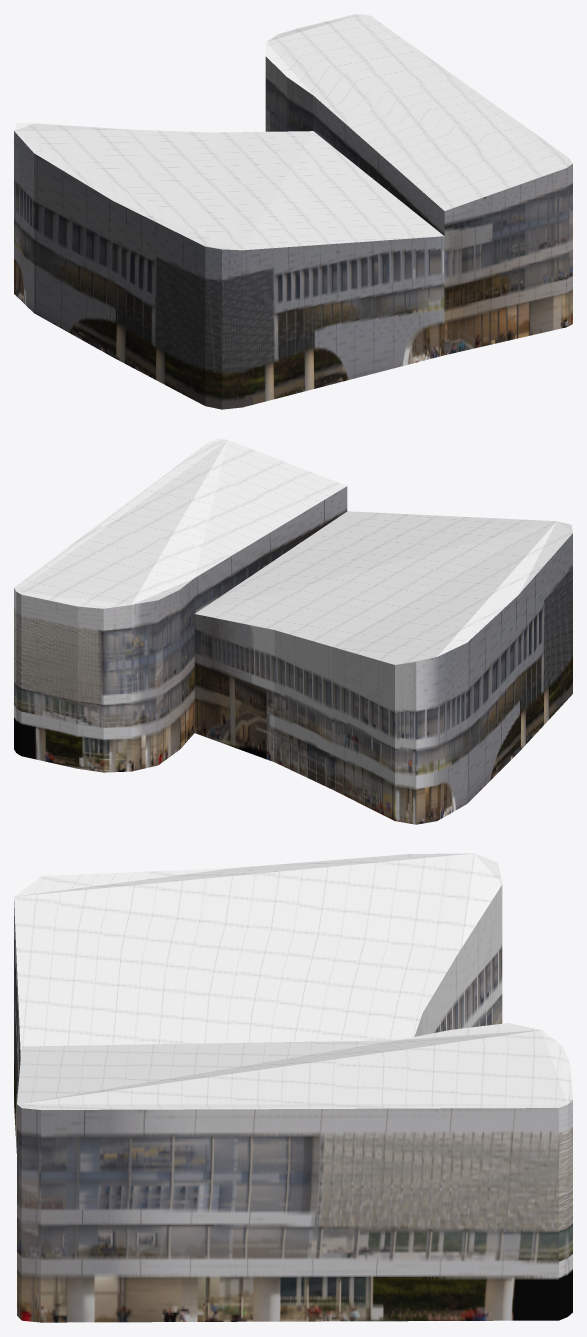
File: ICJ00001.glb
3 renders of one model, top to bottom at view 1: azimuth 30°, elevation 25°; view 2: azimuth 150°, elevation 25°; view 3: azimuth 270°, elevation 25°, orthographic. The views are drawn at different scales.
Visible parts, largest first — view 1: MainBuilding; view 2: MainBuilding; view 3: MainBuilding.
Boxes of the visible parts, bbox=[...] form: MainBuilding: bbox=[14, 14, 572, 409]; MainBuilding: bbox=[14, 438, 572, 824]; MainBuilding: bbox=[14, 853, 572, 1322].
Size of the model in its own units: 666 by 266 by 614.
Materials: 1 (1 with a texture image).
